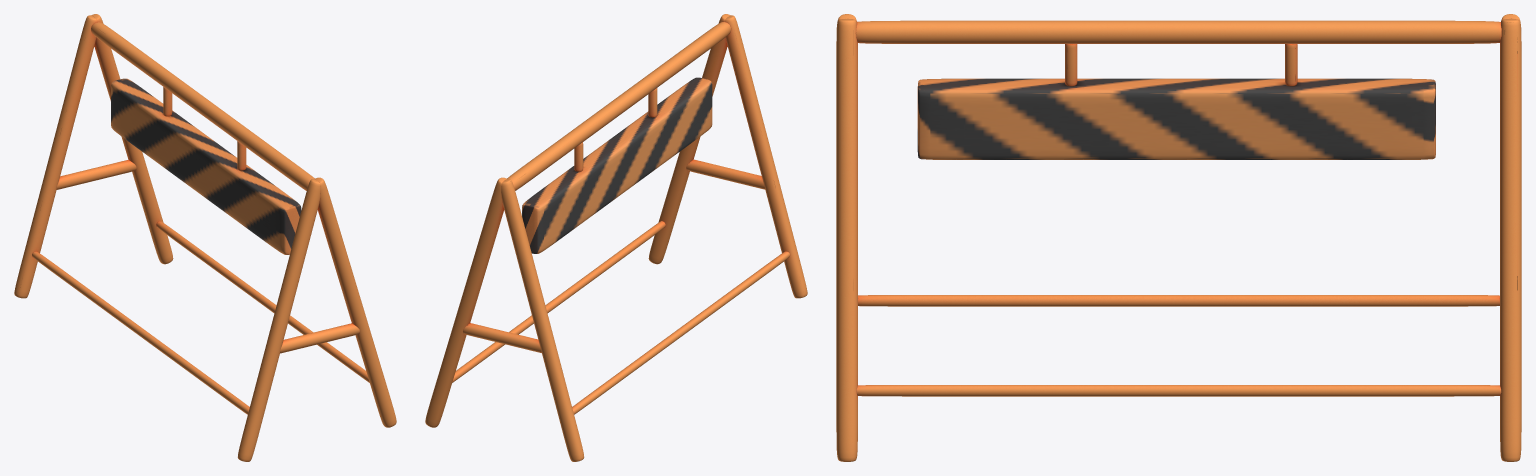
File: construction sign.fbx
3 renders of one model, left to right at view 1: azimuth 30°, elevation 25°; view 2: azimuth 150°, elevation 25°; view 3: azimuth 270°, elevation 25°, orthographic. The views are drawn at different scales.
Parts seen in each view (by area): view 1: Cube.003, Cube.006; view 2: Cube.003, Cube.006; view 3: Cube.003, Cube.006.
Boxes of the visible parts, x1,y1,x2,y2 form: Cube.003: (14,14,396,461); Cube.006: (111,78,301,254); Cube.003: (425,14,807,461); Cube.006: (522,77,712,253); Cube.003: (836,14,1521,461); Cube.006: (917,78,1435,159).
Bounding box in the file's own units: 46.63 × 75.04 × 119.
2 materials, 2 textured.
